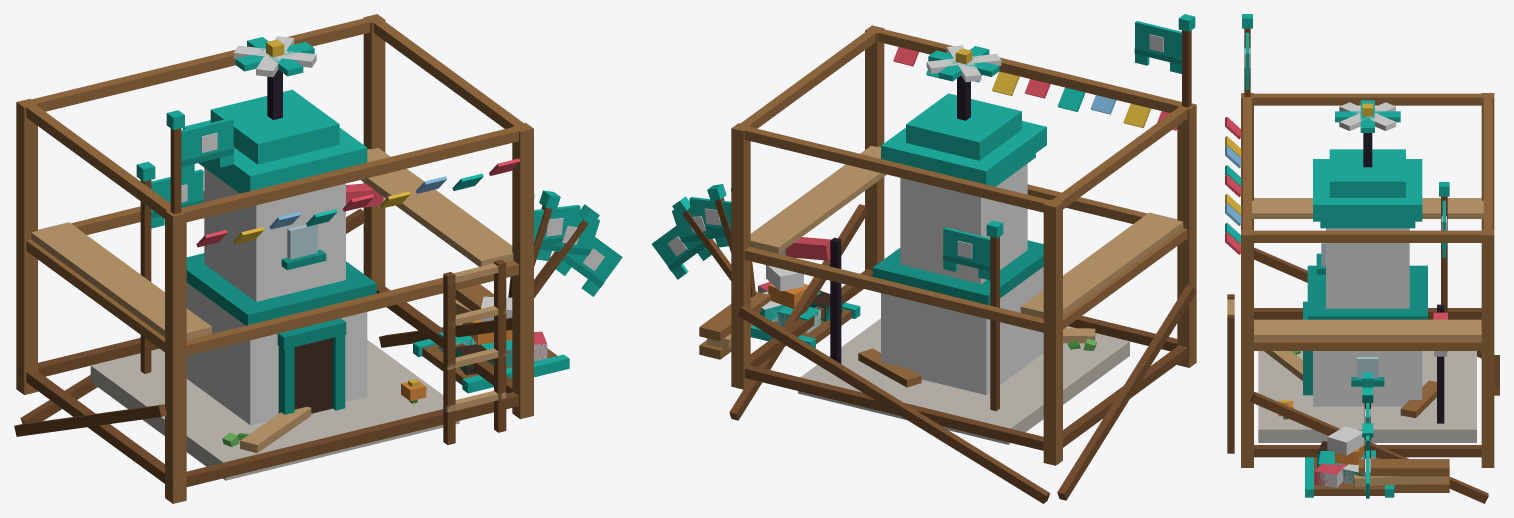
The model's file is hummingbird-research.glb.
The picture shows the model from 3 angles, left to right: view 1: azimuth 30°, elevation 25°; view 2: azimuth 150°, elevation 25°; view 3: azimuth 270°, elevation 25°; orthographic projection. The views are drawn at different scales.
Parts seen in each view (by area): view 1: scaffold-mesh, built-mesh, dismantle-75-mesh, dismantle-25-mesh, dismantle-50-mesh, scaffold-banner, flag-pole, dismantle-25-banner, scaffold-flag-pole, dismantle-50-banner, banner, dismantle-75-banner (+2 smaller); view 2: scaffold-mesh, built-mesh, dismantle-25-mesh, dismantle-75-mesh, dismantle-50-mesh, banner, flag-pole, scaffold-banner, dismantle-25-banner, scaffold-flag-pole, dismantle-75-banner, dismantle-50-banner (+2 smaller); view 3: scaffold-mesh, built-mesh, dismantle-25-mesh, dismantle-75-mesh, dismantle-50-mesh, flag-pole, scaffold-flag-pole, scaffold-banner.
Boxes of the visible parts, left/top/right/bottom form: scaffold-mesh: left=14, top=14, right=533, bottom=503; built-mesh: left=90, top=36, right=417, bottom=480; dismantle-75-mesh: left=186, top=168, right=569, bottom=441; dismantle-25-mesh: left=91, top=296, right=569, bottom=462; dismantle-50-mesh: left=204, top=232, right=569, bottom=453; scaffold-banner: left=181, top=118, right=233, bottom=176; flag-pole: left=136, top=161, right=155, bottom=373; dismantle-25-banner: left=555, top=237, right=622, bottom=296; scaffold-flag-pole: left=166, top=110, right=184, bottom=214; dismantle-50-banner: left=536, top=216, right=599, bottom=266; banner: left=151, top=169, right=203, bottom=228; dismantle-75-banner: left=534, top=205, right=580, bottom=247; scaffold-mesh: left=699, top=25, right=1196, bottom=503; built-mesh: left=779, top=45, right=1129, bottom=444; dismantle-25-mesh: left=751, top=265, right=1129, bottom=428; dismantle-75-mesh: left=751, top=164, right=1096, bottom=394; dismantle-50-mesh: left=751, top=221, right=1096, bottom=387; banner: left=943, top=227, right=990, bottom=280; flag-pole: left=986, top=220, right=1003, bottom=411; scaffold-banner: left=1134, top=21, right=1181, bottom=73; dismantle-25-banner: left=651, top=224, right=711, bottom=279; scaffold-flag-pole: left=1178, top=14, right=1195, bottom=107; dismantle-75-banner: left=689, top=197, right=731, bottom=235; dismantle-50-banner: left=672, top=206, right=728, bottom=251; scaffold-mesh: left=1225, top=93, right=1499, bottom=503; built-mesh: left=1297, top=100, right=1446, bottom=386; dismantle-25-mesh: left=1258, top=351, right=1476, bottom=497; dismantle-75-mesh: left=1258, top=243, right=1476, bottom=497; dismantle-50-mesh: left=1264, top=316, right=1427, bottom=494; flag-pole: left=1439, top=182, right=1449, bottom=352; scaffold-flag-pole: left=1242, top=14, right=1252, bottom=96; scaffold-banner: left=1244, top=32, right=1250, bottom=89.
Size of the model in its own units: 2.73 by 2.1 by 1.51.
